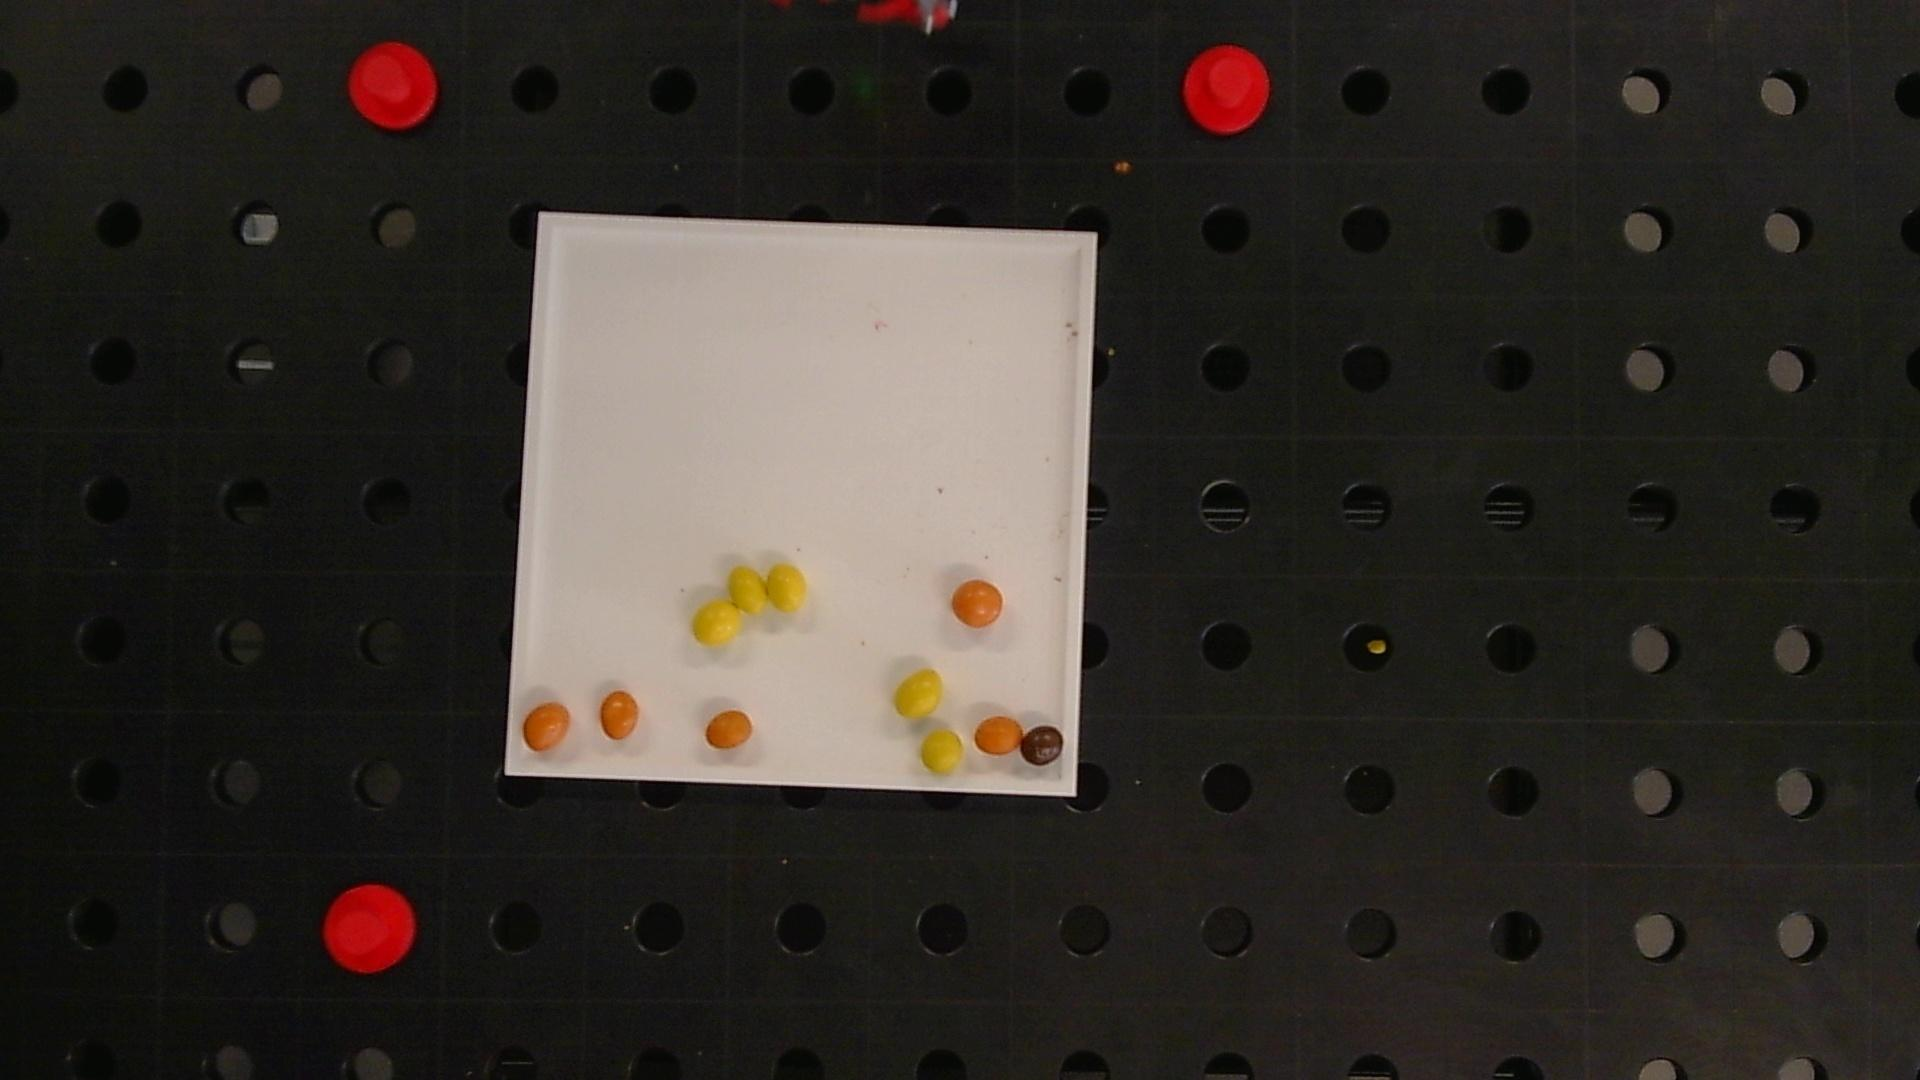brown: (1019, 725, 1064, 765)
orange: (951, 579, 1004, 626), (522, 703, 570, 750), (975, 715, 1023, 754), (600, 691, 638, 738), (705, 709, 753, 748)
yellow: (895, 669, 943, 719), (692, 600, 741, 645), (767, 563, 807, 612), (729, 566, 767, 615), (920, 731, 963, 774)
